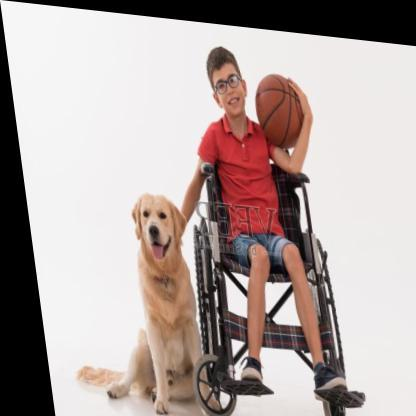basketball: (251, 65, 302, 144)
